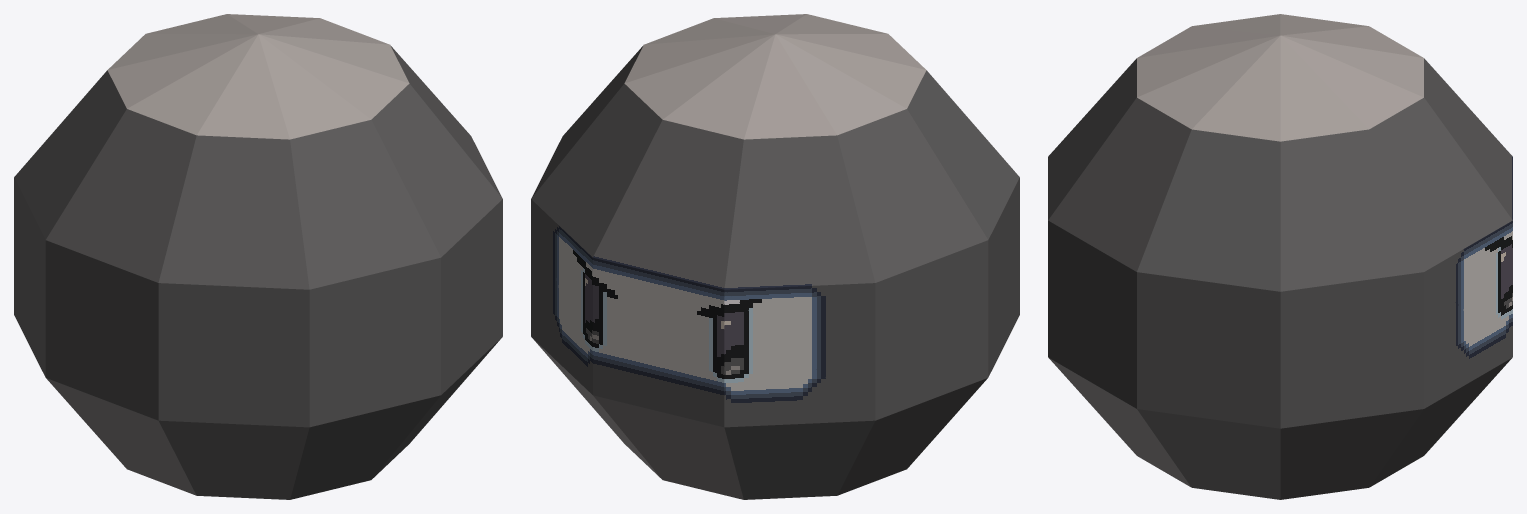
Rendered from BombBot.gltf.
3 renders of one model, left to right at view 1: azimuth 30°, elevation 25°; view 2: azimuth 150°, elevation 25°; view 3: azimuth 270°, elevation 25°, orthographic.
Visible parts, largest first — view 1: sphere; view 2: sphere; view 3: sphere.
Part boxes in pixels (box(x1,y1,x2,y2)): sphere: box(14, 14, 502, 499); sphere: box(531, 14, 1019, 499); sphere: box(1048, 14, 1512, 499).
Bounding box in the file's own units: 1.69 × 1.69 × 1.6.
Materials: 1 (1 with a texture image).
